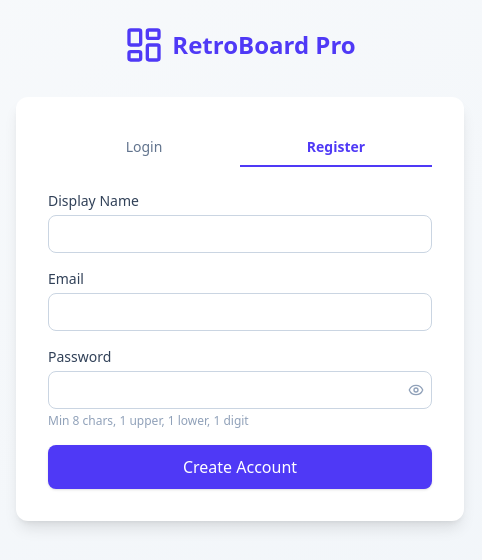
Scenario: RegisterPage › should validate weak password
Step 1. Type "Test User" into the field labelled "Display Name" → (240,234), box left=48, top=215, right=432, bottom=253
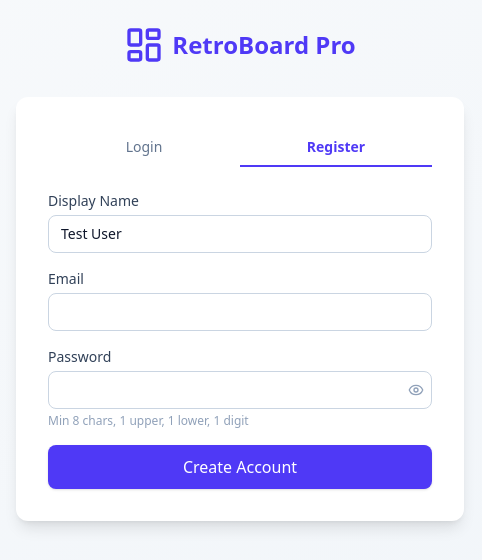
Step 2. Type "test@test.com" into the field labelled "Email" → (240,312), box left=48, top=293, right=432, bottom=331
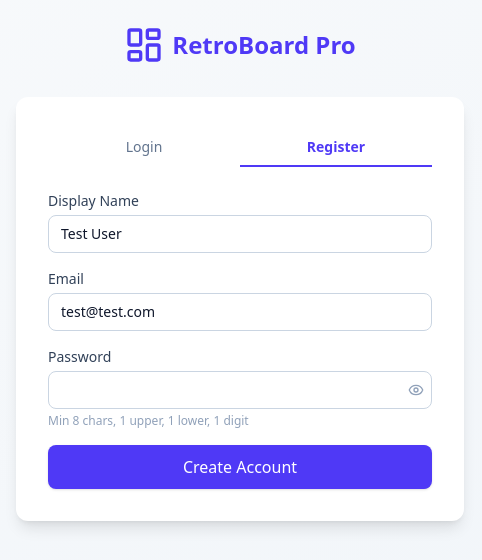
Step 3. Type "weak" into the password field with id "register-password" → (240,390), box left=48, top=371, right=432, bottom=409
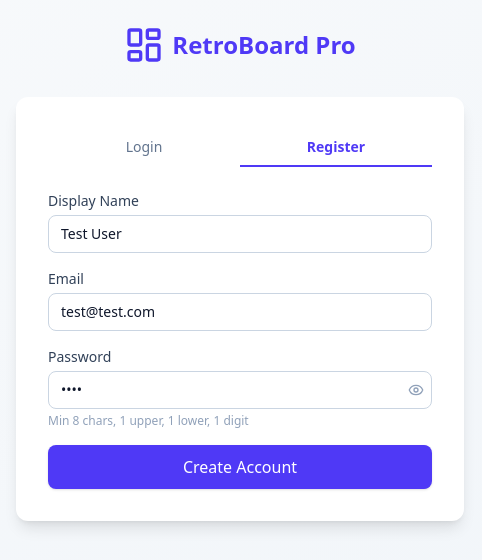
Step 4. Submit the form, box left=48, top=191, right=432, bottom=489
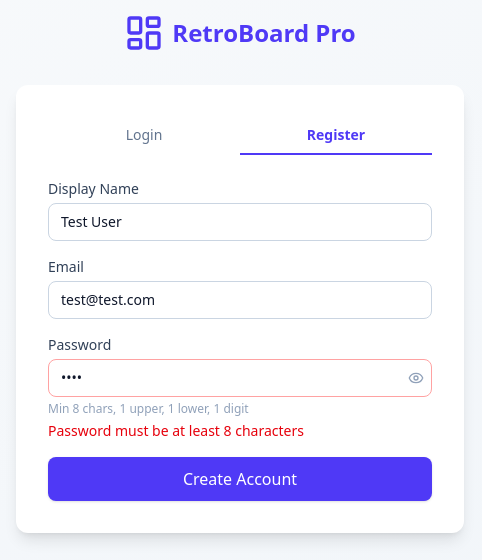
Expected: the text "Password must be at least 8 characters" is shown, left=48, top=421, right=304, bottom=440
